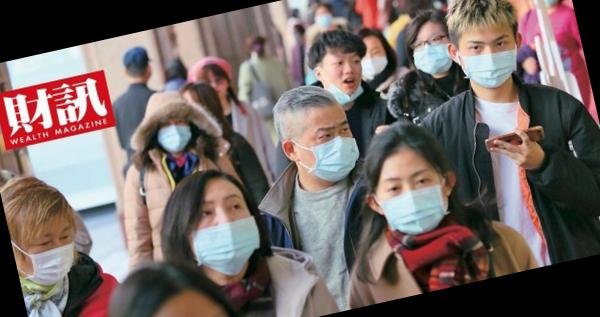mask_weared_incorrect: (319, 51, 368, 103)
with_mask: (182, 187, 267, 285), (373, 161, 456, 242), (296, 115, 366, 190), (455, 29, 525, 95), (18, 222, 81, 291), (409, 26, 455, 77), (153, 113, 197, 154), (356, 42, 392, 82)
without_mask: (201, 71, 232, 100)
